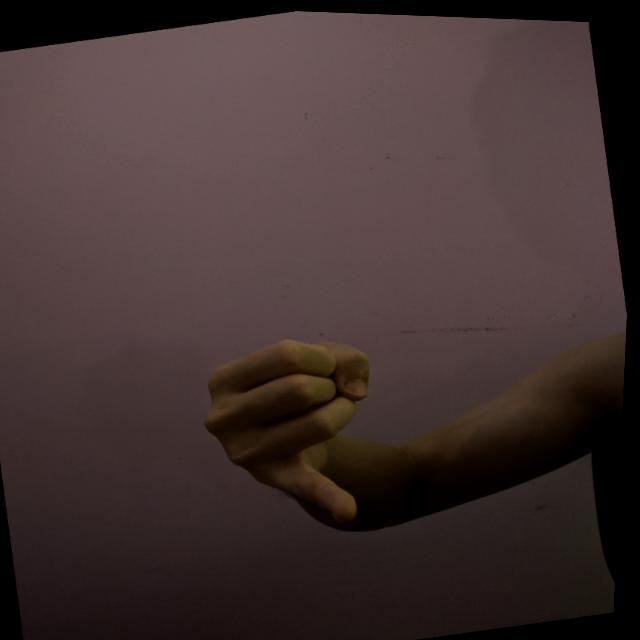J: (176, 312, 414, 555)
